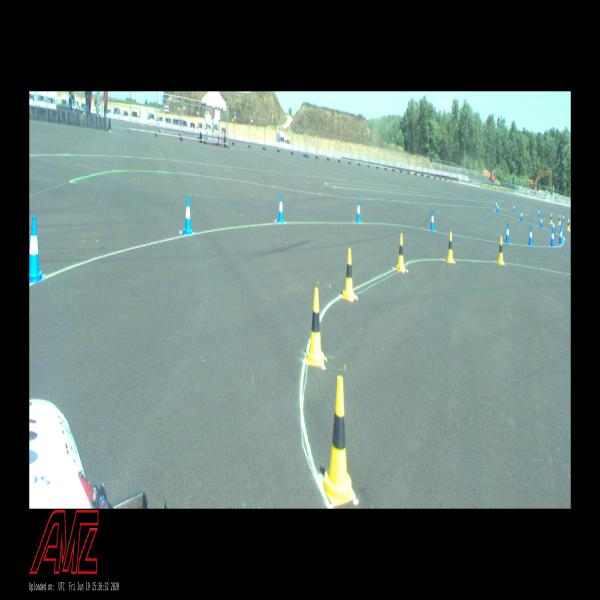blue_cone: (30, 216, 44, 282), (182, 195, 193, 235), (277, 194, 284, 223), (355, 199, 361, 224), (505, 223, 510, 243), (550, 227, 555, 246), (528, 226, 533, 245), (430, 210, 434, 231), (559, 225, 563, 244), (551, 219, 555, 234), (560, 223, 564, 236), (540, 216, 543, 228), (520, 209, 523, 221), (496, 201, 499, 212), (513, 202, 515, 212), (538, 208, 540, 218), (563, 214, 565, 222), (496, 200, 497, 211)
yellow_cone: (322, 375, 356, 506), (305, 287, 326, 365), (341, 247, 356, 302), (396, 233, 406, 272), (447, 231, 456, 263), (497, 236, 505, 265), (567, 219, 570, 230), (550, 213, 553, 224), (558, 214, 561, 224)
